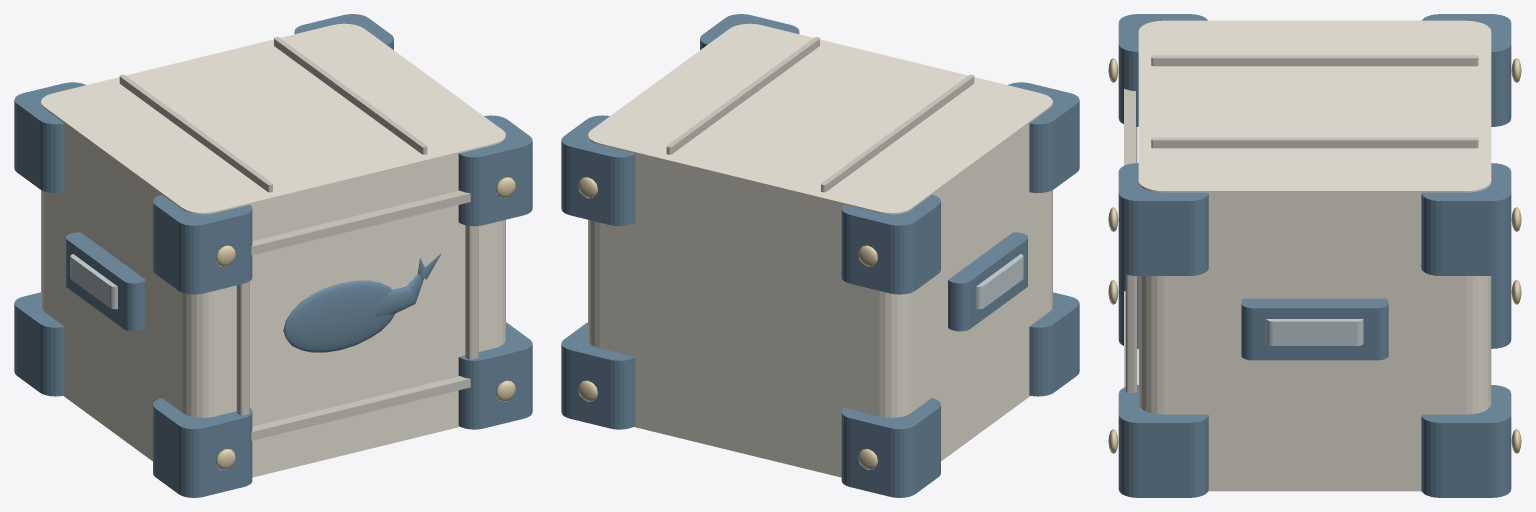
Rendered from library_supply_crate.glb.
3 views of the same model, side by side, from view 1: azimuth 30°, elevation 25°; view 2: azimuth 150°, elevation 25°; view 3: azimuth 270°, elevation 25° (orthographic). The views are drawn at different scales.
Visible parts, largest first — view 1: decor_e0d7bf_matte, decor_29445e_matte, decor_aaa493_matte, decor_bca46d_metal, decor_9aadb8_metal; view 2: decor_e0d7bf_matte, decor_29445e_matte, decor_aaa493_matte, decor_bca46d_metal, decor_9aadb8_metal; view 3: decor_e0d7bf_matte, decor_29445e_matte, decor_aaa493_matte, decor_9aadb8_metal, decor_bca46d_metal.
Part boxes in pixels (x1,y1,x2,y2): decor_e0d7bf_matte: (41,23,505,477); decor_29445e_matte: (14,14,532,497); decor_aaa493_matte: (119,37,478,440); decor_bca46d_metal: (216,177,515,469); decor_9aadb8_metal: (70,254,117,309); decor_e0d7bf_matte: (588,23,1052,477); decor_29445e_matte: (561,14,1079,497); decor_aaa493_matte: (666,37,974,192); decor_bca46d_metal: (578,177,877,469); decor_9aadb8_metal: (976,254,1023,309); decor_e0d7bf_matte: (1138,20,1491,491); decor_29445e_matte: (1118,14,1511,497); decor_aaa493_matte: (1124,55,1478,392); decor_9aadb8_metal: (1266,319,1363,345); decor_bca46d_metal: (1108,58,1521,453).
Size of the model in its own units: 1.28 by 0.9445 by 1.15.
